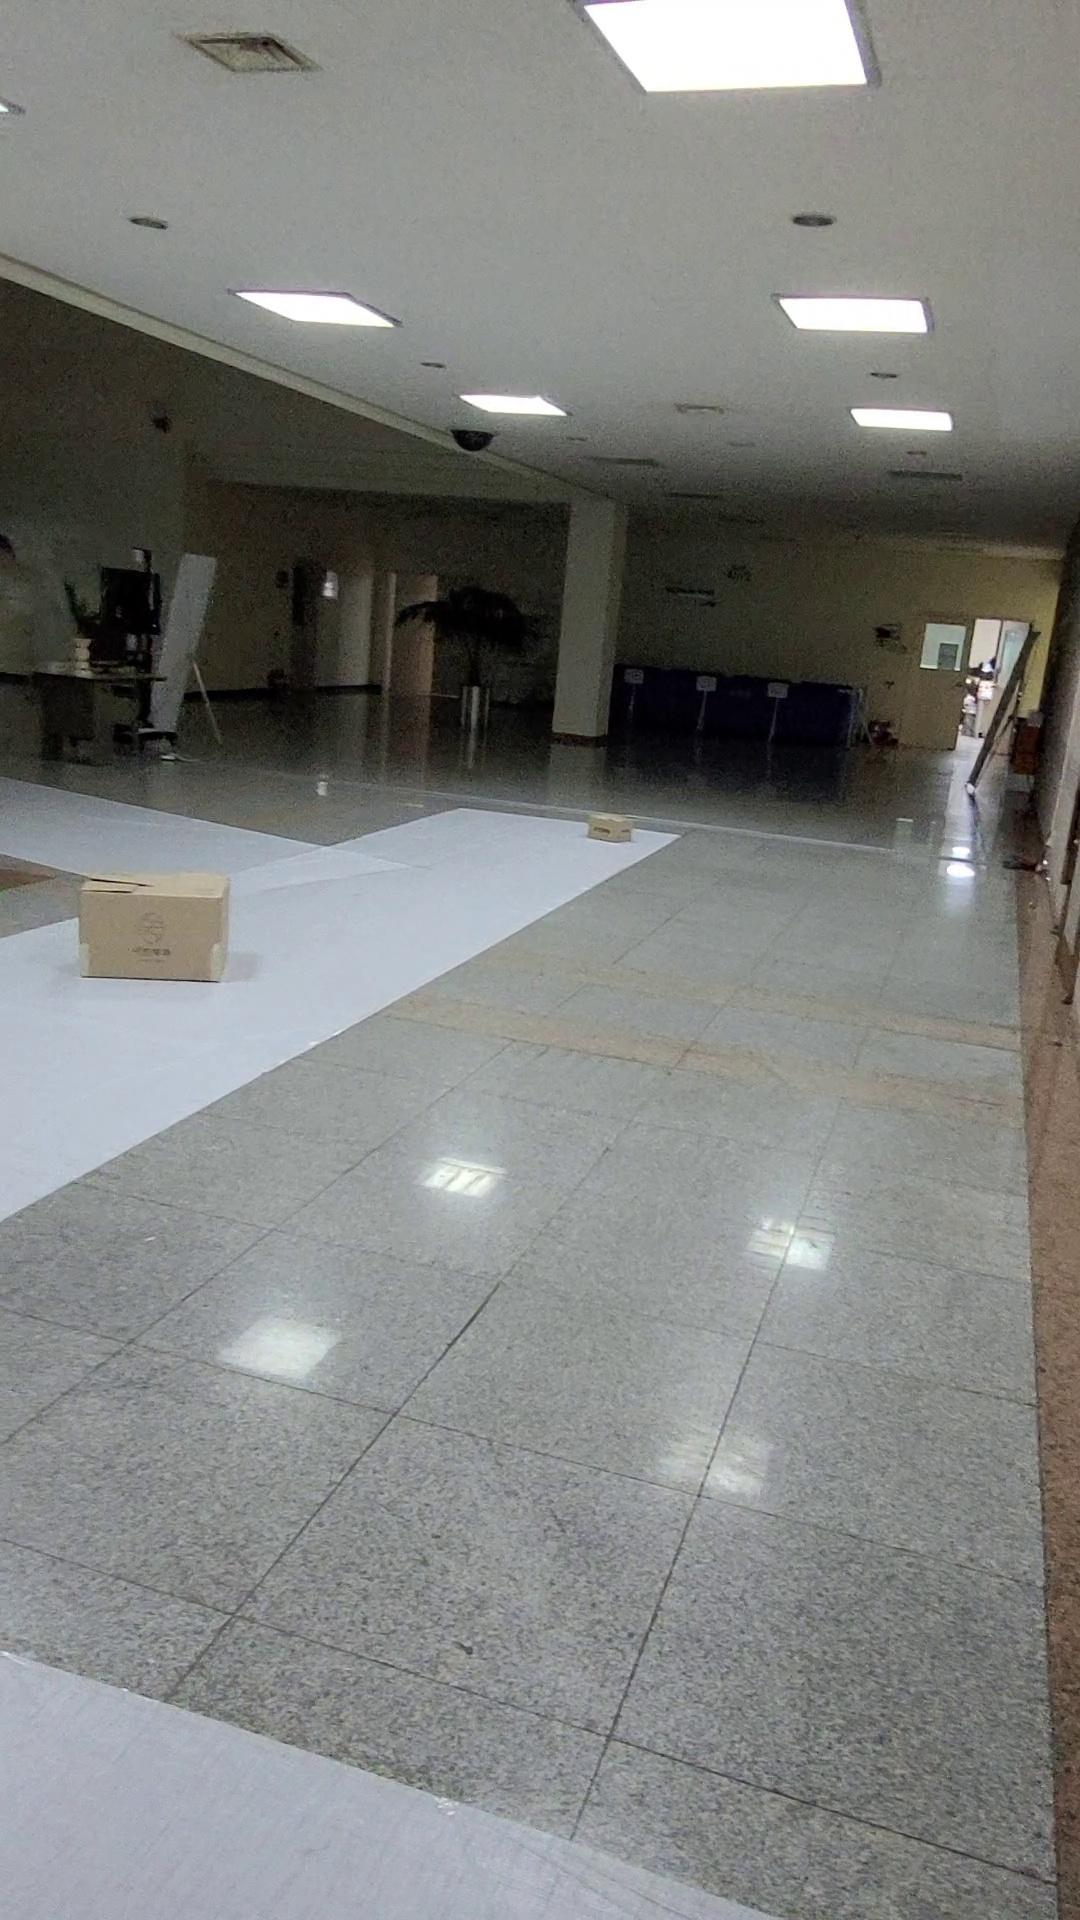Box: (58, 855, 262, 997), (571, 783, 647, 870)
